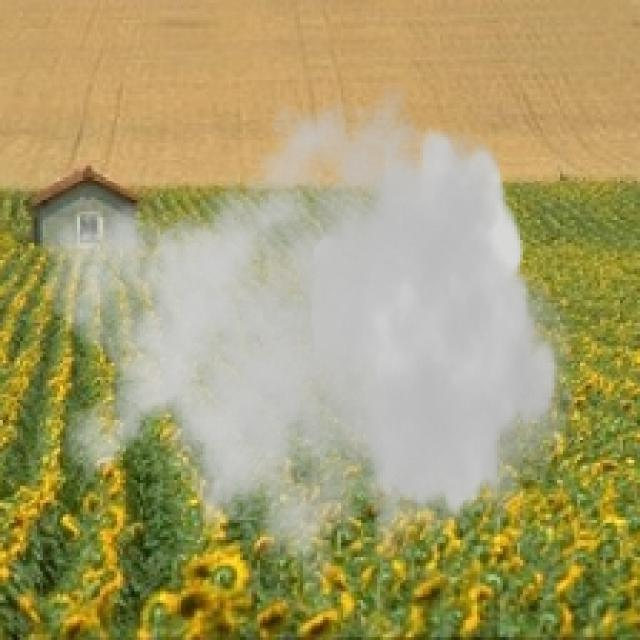smoke: (40, 74, 577, 623)
